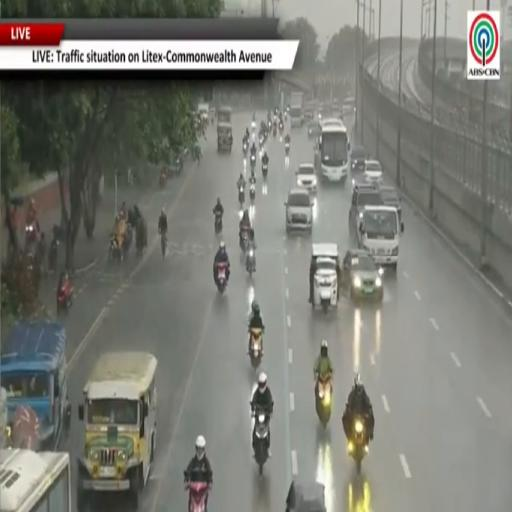bus: (0, 450, 71, 511), (315, 119, 349, 183), (342, 98, 356, 116)
car: (342, 249, 383, 300), (349, 184, 383, 233), (286, 478, 326, 511), (285, 187, 312, 233), (380, 186, 401, 221), (296, 164, 317, 193), (364, 160, 383, 185), (351, 146, 366, 172), (308, 121, 320, 138)
jeepney: (77, 351, 157, 510), (0, 322, 70, 450), (218, 122, 232, 152), (217, 107, 232, 123)
motorcycle: (348, 416, 368, 474), (254, 408, 269, 475), (316, 376, 332, 427), (48, 224, 63, 271), (185, 482, 209, 511), (248, 328, 263, 371), (57, 280, 73, 313), (25, 222, 39, 252), (48, 234, 59, 271), (109, 235, 123, 261), (216, 262, 227, 294), (245, 246, 256, 276), (240, 228, 248, 252), (161, 230, 167, 260), (214, 211, 222, 233), (159, 171, 167, 187), (239, 186, 244, 207), (250, 183, 255, 203), (250, 154, 256, 170), (262, 163, 268, 179), (243, 142, 248, 156), (259, 134, 264, 148), (279, 121, 284, 134), (285, 142, 289, 155), (268, 120, 272, 131), (273, 123, 276, 137), (252, 121, 256, 131), (285, 110, 287, 120)
truck: (289, 92, 303, 127)
